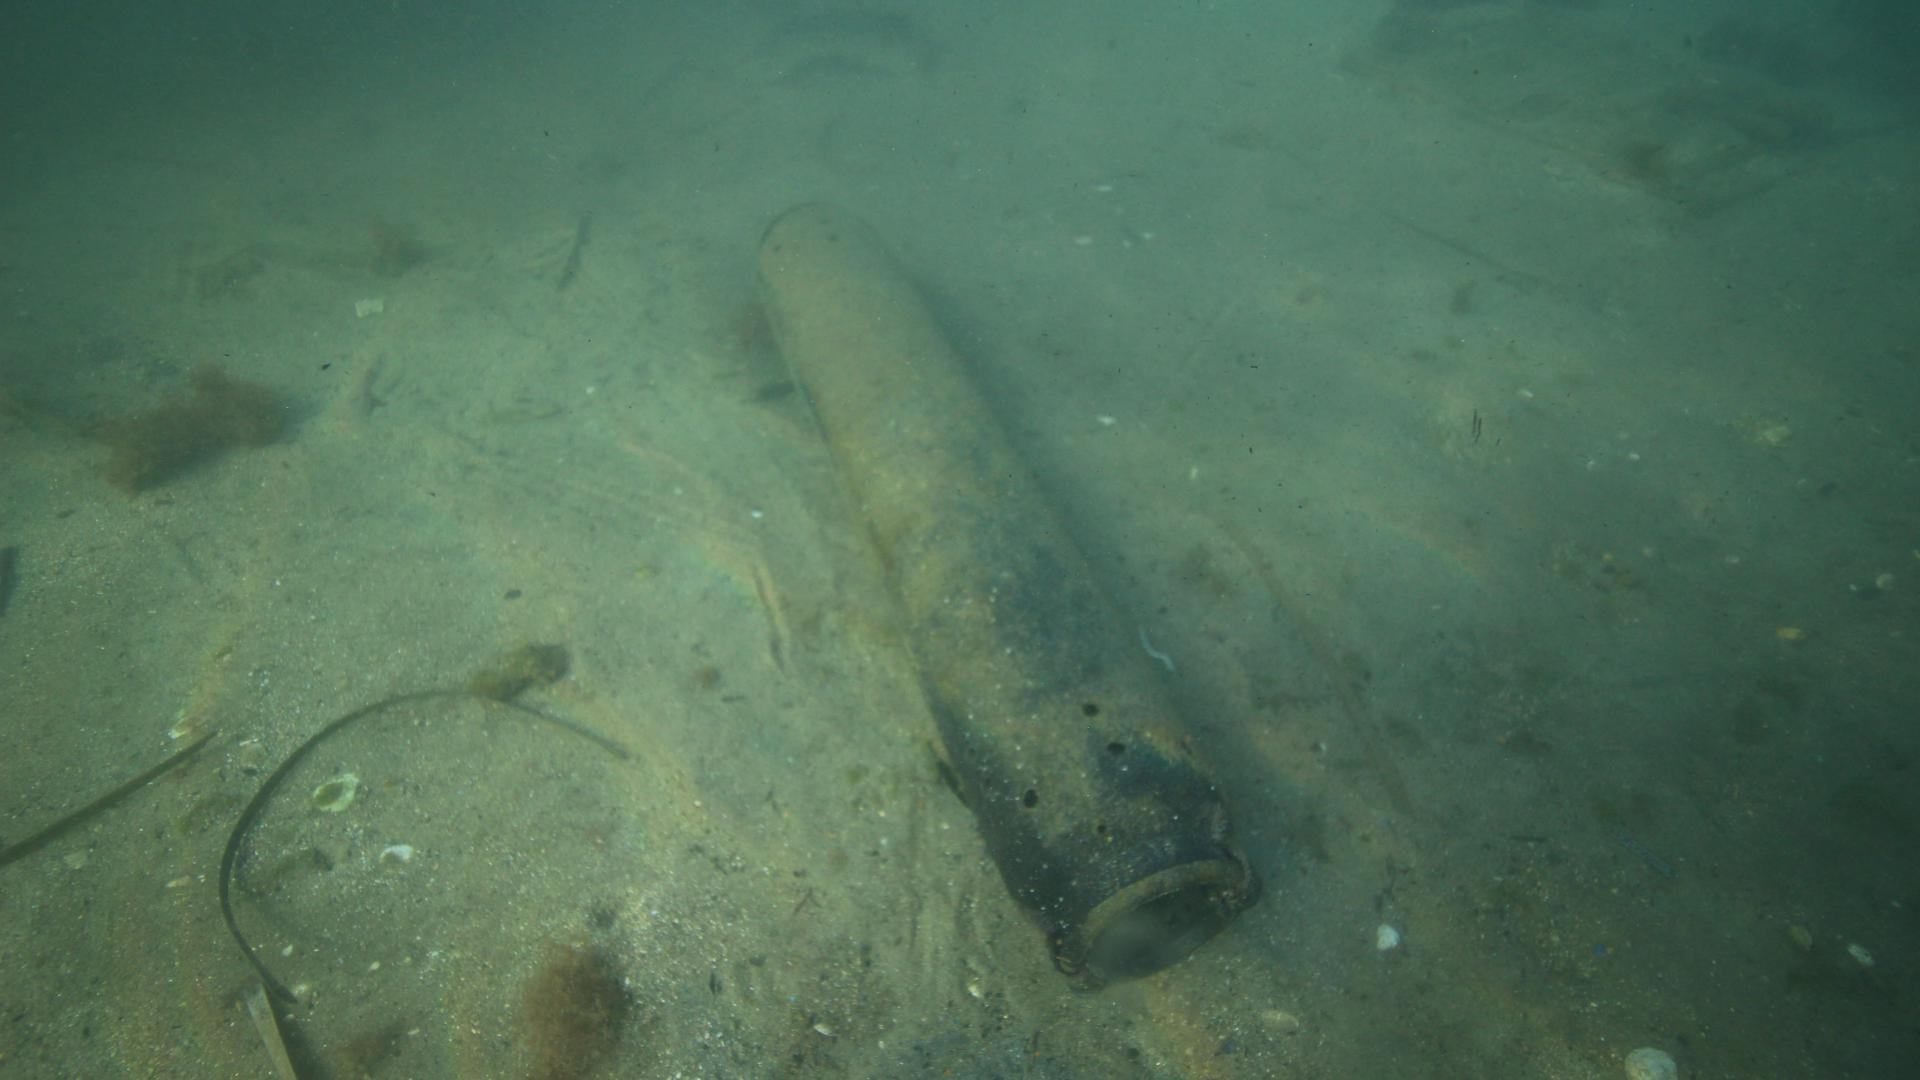eel fish trap: (740, 193, 1262, 993)
